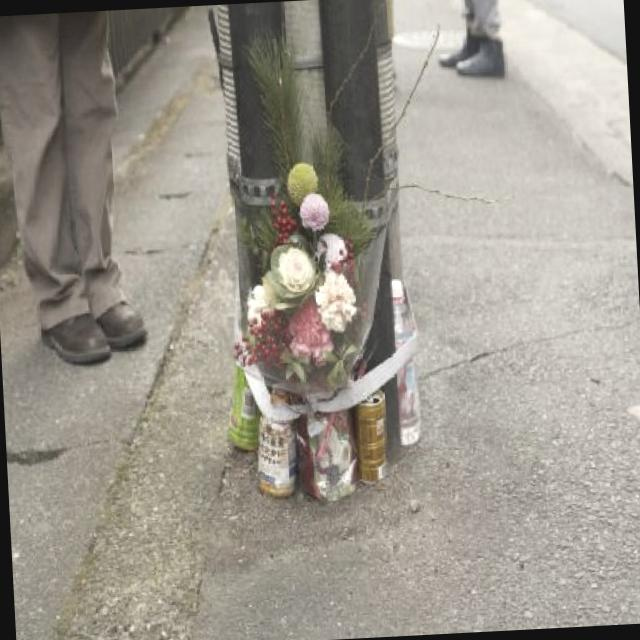Person: (0, 9, 161, 358), (429, 0, 528, 86)
